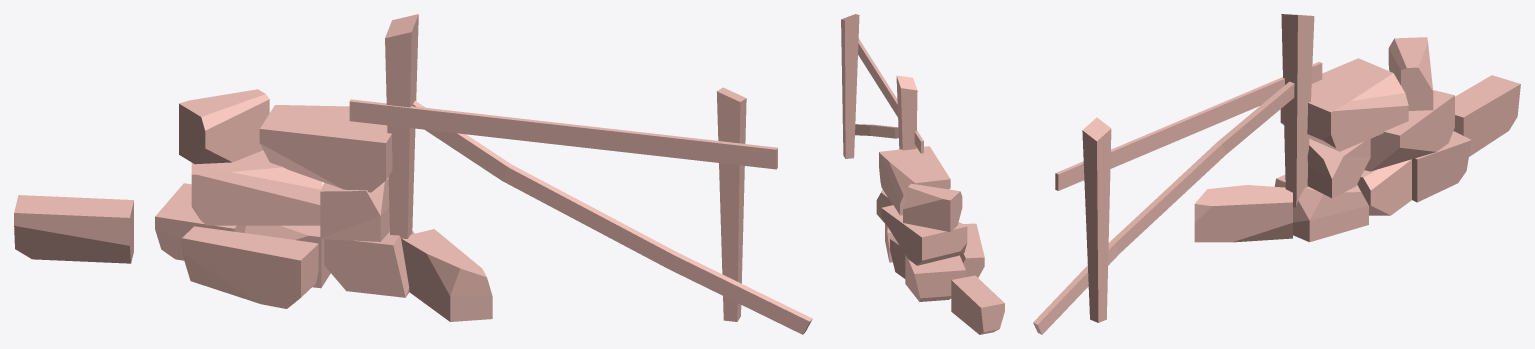
The model's file is Mega_Asset_s_Pack_Cube_238.FBX.
3 views of the same model, side by side, from view 1: azimuth 30°, elevation 25°; view 2: azimuth 150°, elevation 25°; view 3: azimuth 270°, elevation 25° (orthographic). The views are drawn at different scales.
Parts seen in each view (by area): view 1: Mega_Asset_s_Pack_Cube_238; view 2: Mega_Asset_s_Pack_Cube_238; view 3: Mega_Asset_s_Pack_Cube_238.
Part boxes in pixels (x1,y1,x2,y2): Mega_Asset_s_Pack_Cube_238: (14, 14, 812, 334); Mega_Asset_s_Pack_Cube_238: (841, 14, 1004, 334); Mega_Asset_s_Pack_Cube_238: (1033, 14, 1520, 334).
Size of what is drawn, in the model's own units: 464 by 439 by 222.
